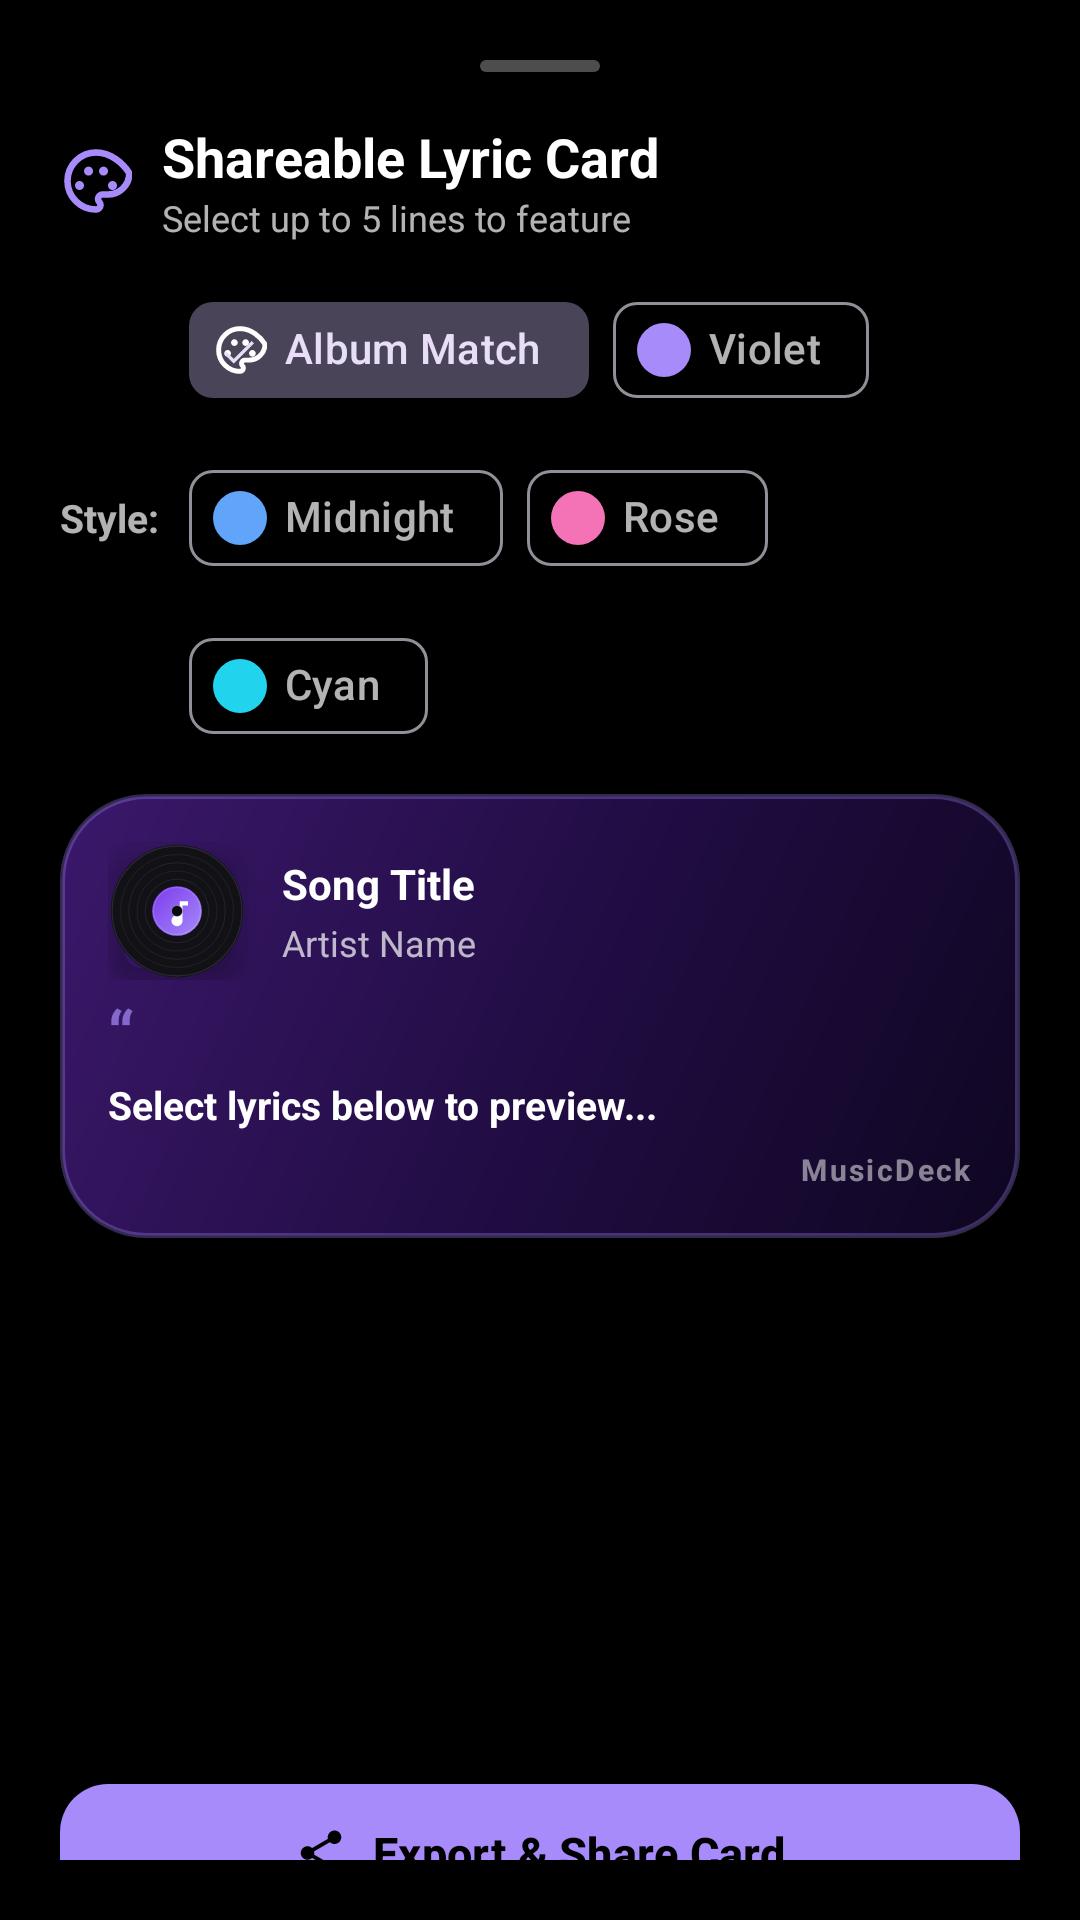

Named icons in this screenshot (1080×1920) and their centers, (x=x, y=y):
album art: (x=177, y=911)
Card palette: (x=98, y=181)
